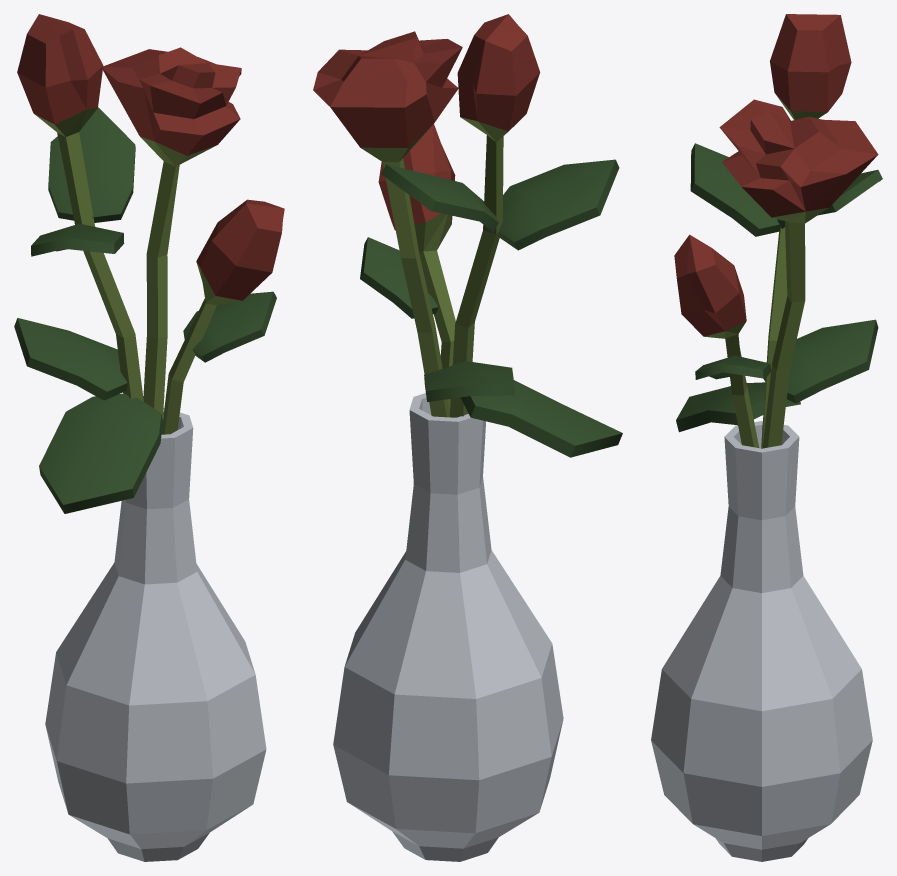
The model's file is SM_Prop_Plant_Flowers_02.glb.
3 renders of one model, left to right at view 1: azimuth 30°, elevation 25°; view 2: azimuth 150°, elevation 25°; view 3: azimuth 270°, elevation 25°, orthographic. The views are drawn at different scales.
Visible parts, largest first — view 1: SM_Prop_Plant_Flowers_02; view 2: SM_Prop_Plant_Flowers_02; view 3: SM_Prop_Plant_Flowers_02.
Part boxes in pixels (<box>): SM_Prop_Plant_Flowers_02: <box>14,14,284,861</box>; SM_Prop_Plant_Flowers_02: <box>313,14,622,861</box>; SM_Prop_Plant_Flowers_02: <box>651,14,882,861</box>.
Bounding box in the file's own units: 0.2812 × 0.9187 × 0.2424.
Materials: 1 (1 with a texture image).
